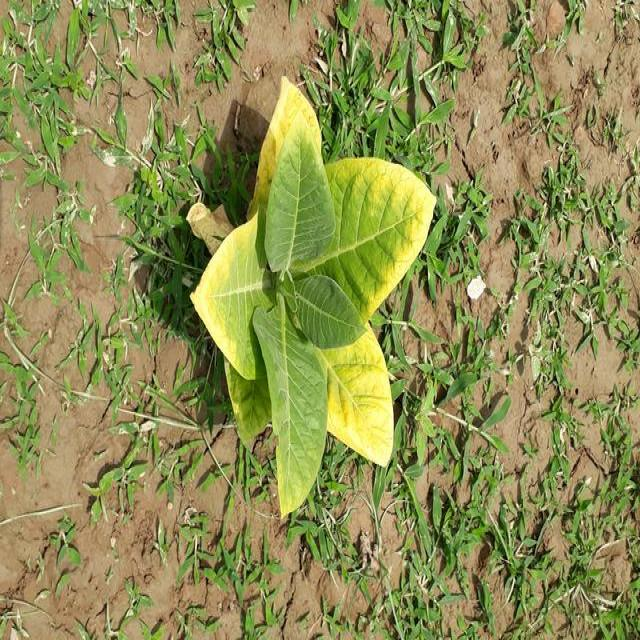crop: (172, 66, 430, 520)
